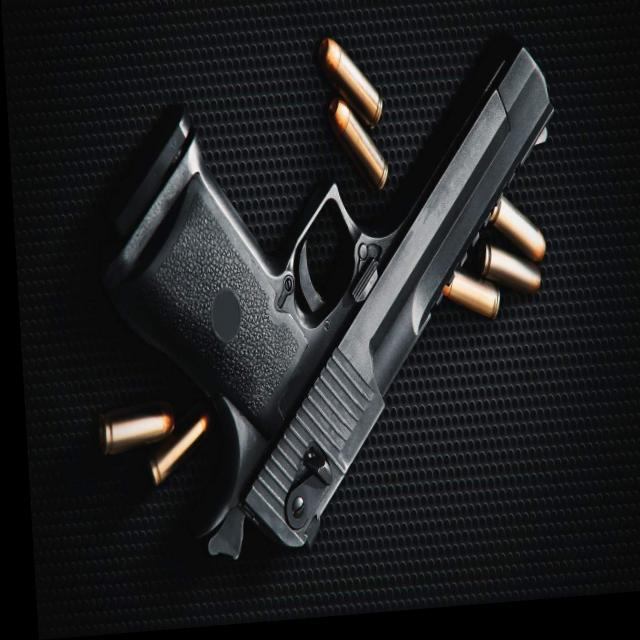handgun: (90, 51, 571, 565)
